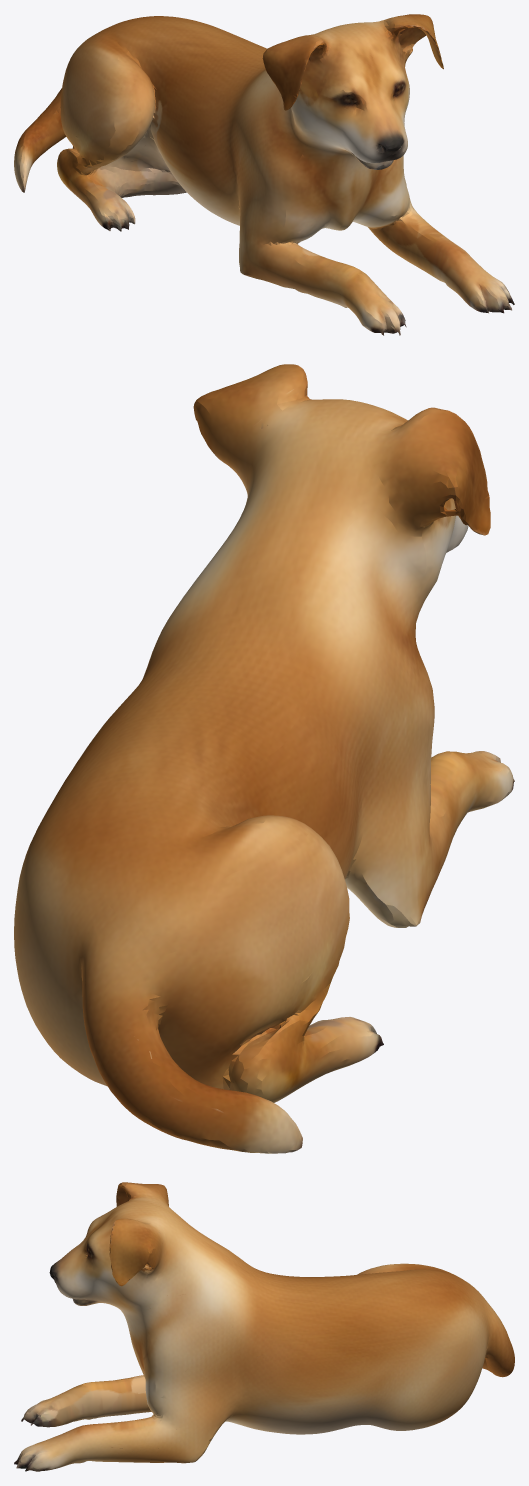
Rendered from stray_dog_new.glb.
3 renders of one model, top to bottom at view 1: azimuth 30°, elevation 25°; view 2: azimuth 150°, elevation 25°; view 3: azimuth 270°, elevation 25°, orthographic. The views are drawn at different scales.
Visible parts, largest first — view 1: model; view 2: model; view 3: model.
Boxes of the visible parts, x1,y1,x2,y2 form: model: [14, 14, 514, 335]; model: [14, 364, 514, 1153]; model: [14, 1182, 514, 1471].
Bounding box in the file's own units: 0.9683 × 0.9711 × 1.9.
Materials: 1 (1 with a texture image).
